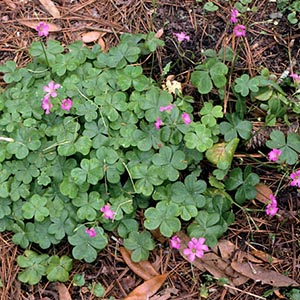oxalis: (7, 43, 253, 271)
